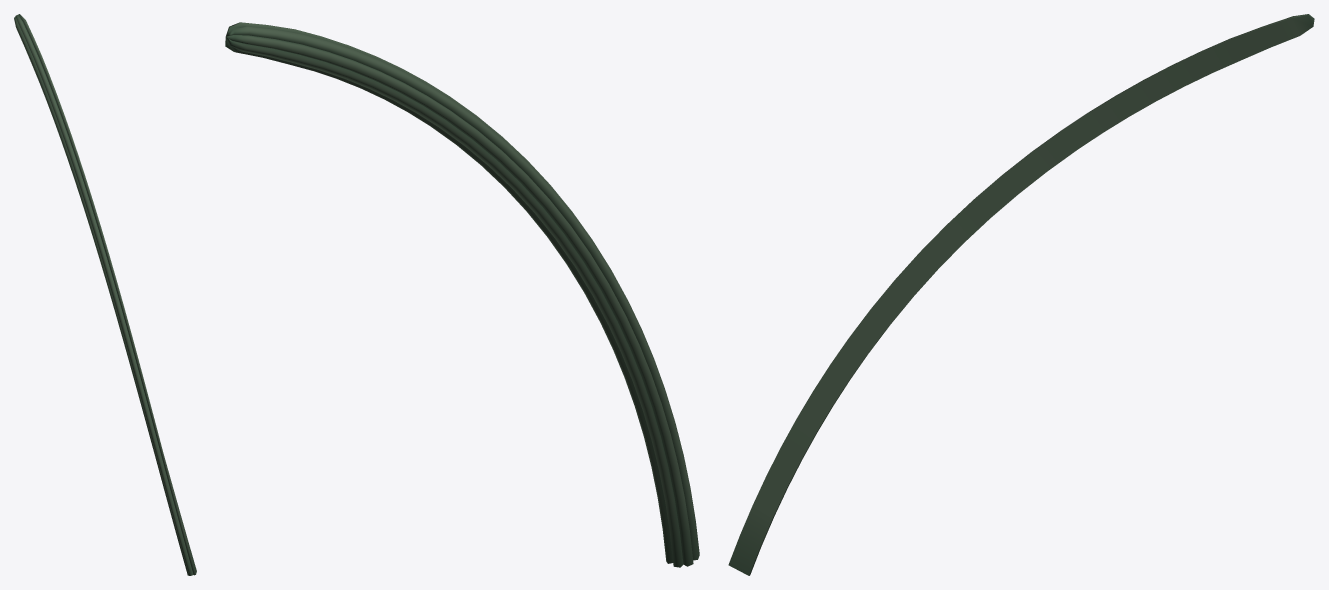
File: trees-plants-saplings-green-stem_v5.glb
3 renders of one model, left to right at view 1: azimuth 30°, elevation 25°; view 2: azimuth 150°, elevation 25°; view 3: azimuth 270°, elevation 25°, orthographic. The views are drawn at different scales.
Visible parts, largest first — view 1: Green Stem_v5; view 2: Green Stem_v5; view 3: Green Stem_v5.
Part boxes in pixels (x1,y1,x2,y2): Green Stem_v5: [14, 14, 196, 575]; Green Stem_v5: [225, 22, 699, 567]; Green Stem_v5: [728, 14, 1314, 575].
Size of the model in its own units: 0.0528 by 0.5 by 0.4605.
